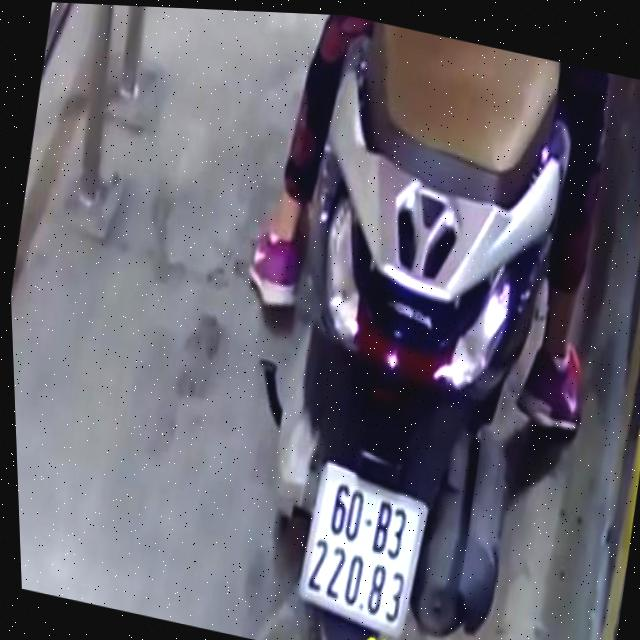motorcycle: (220, 13, 602, 640)
plate: (287, 454, 437, 638)
